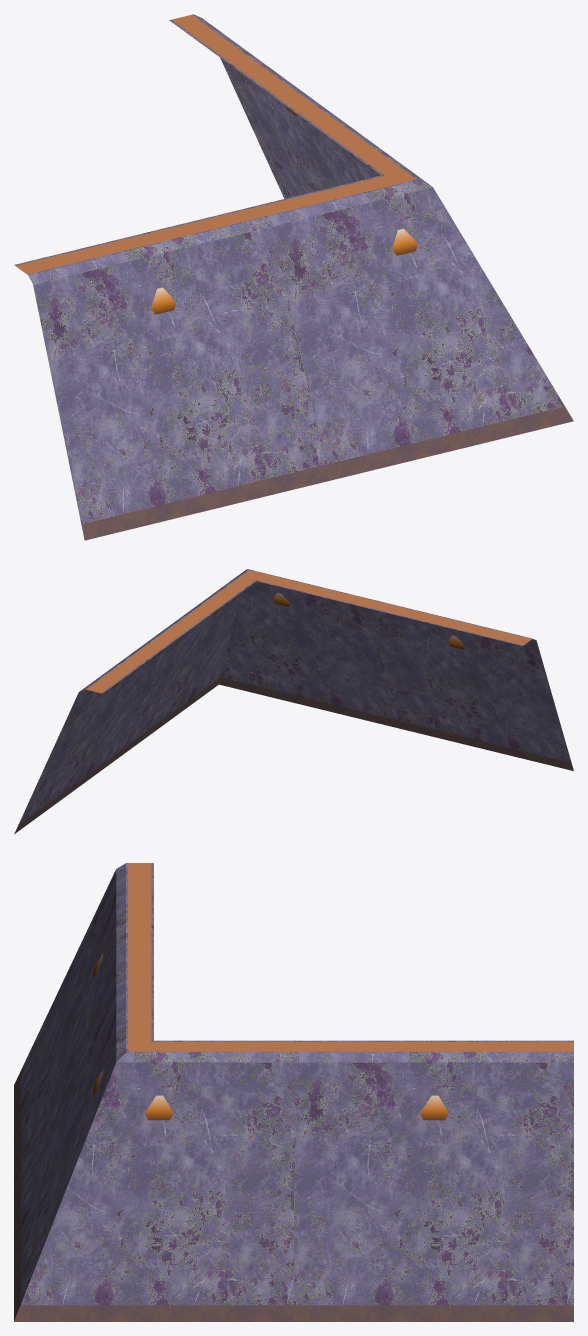
The model's file is TempleBaseCorner_Art.glb.
3 views of the same model, one above another, from view 1: azimuth 30°, elevation 25°; view 2: azimuth 150°, elevation 25°; view 3: azimuth 270°, elevation 25° (orthographic). The views are drawn at different scales.
Parts seen in each view (by area): view 1: TempleBaseCorner_Art; view 2: TempleBaseCorner_Art; view 3: TempleBaseCorner_Art.
Boxes of the visible parts, x1,y1,x2,y2 form: TempleBaseCorner_Art: (14, 14, 573, 540); TempleBaseCorner_Art: (14, 569, 573, 834); TempleBaseCorner_Art: (14, 863, 573, 1321).
Size of the model in its own units: 8 by 3.5 by 8.
1 material, 1 textured.
